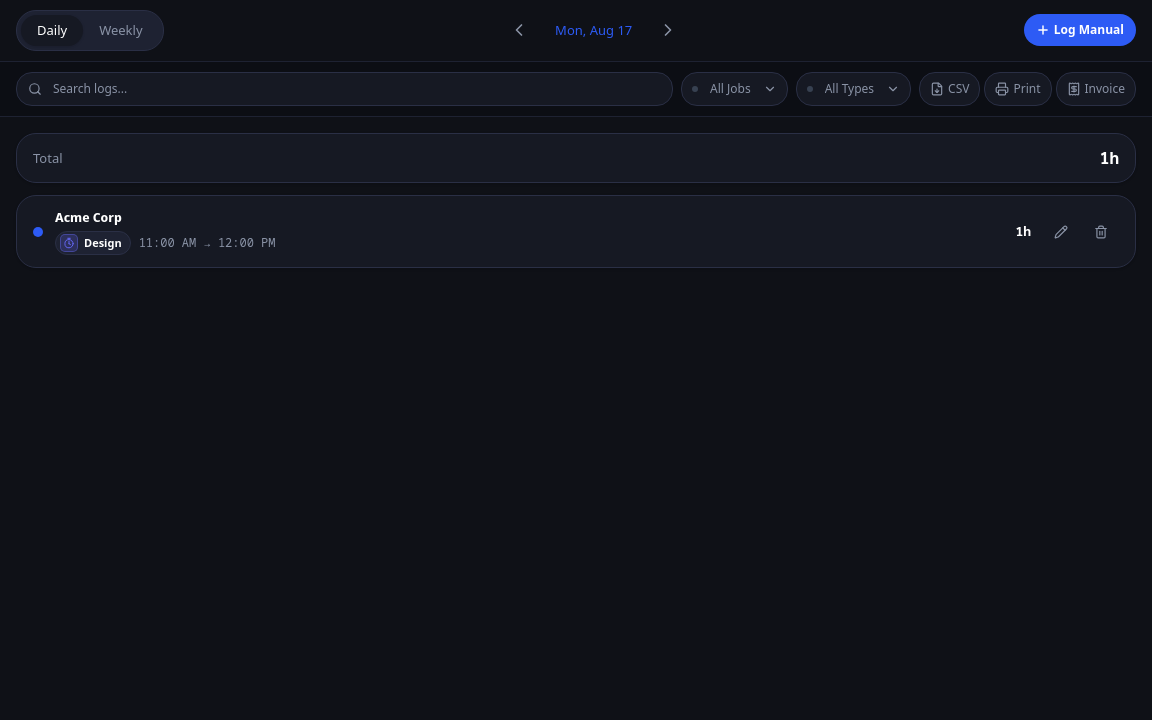
TimesheetsView — delete entry flow › closes the ConfirmModal after deletion is confirmed
The image size is (1152, 720).
Click the button named "delete entry for acme corp". click: (1101, 232)
box: [1083,214,1119,250]
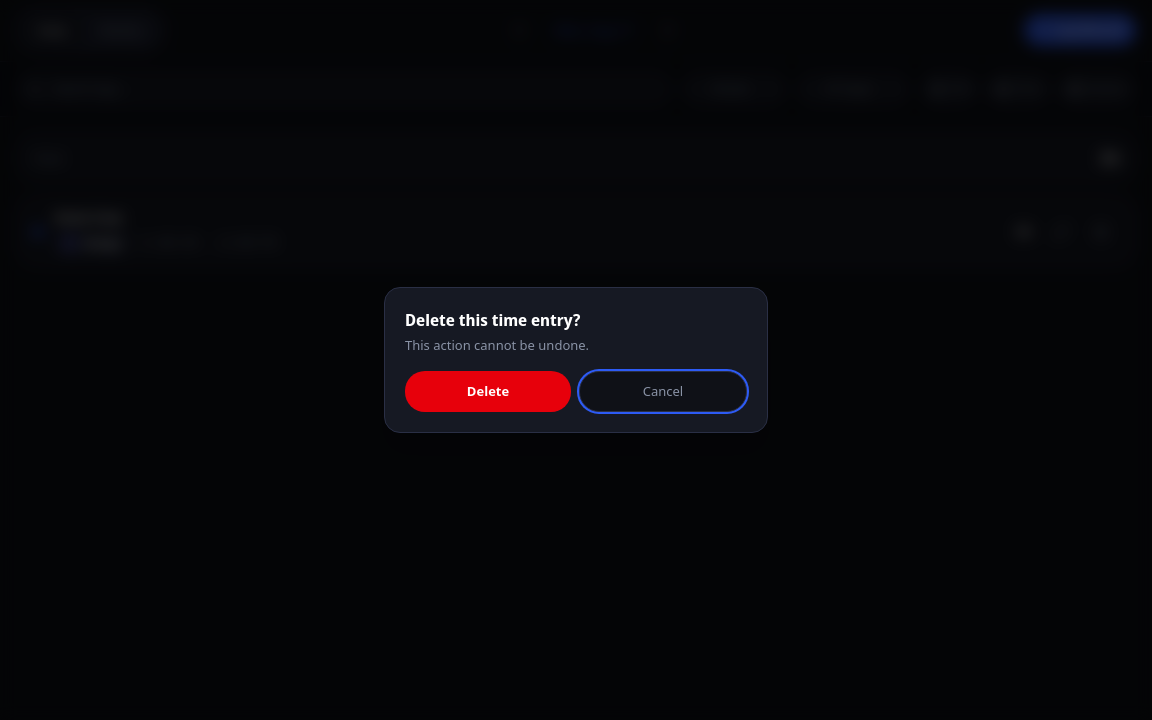
Click the button "Delete". click: (488, 391)
box: [405,371,571,412]
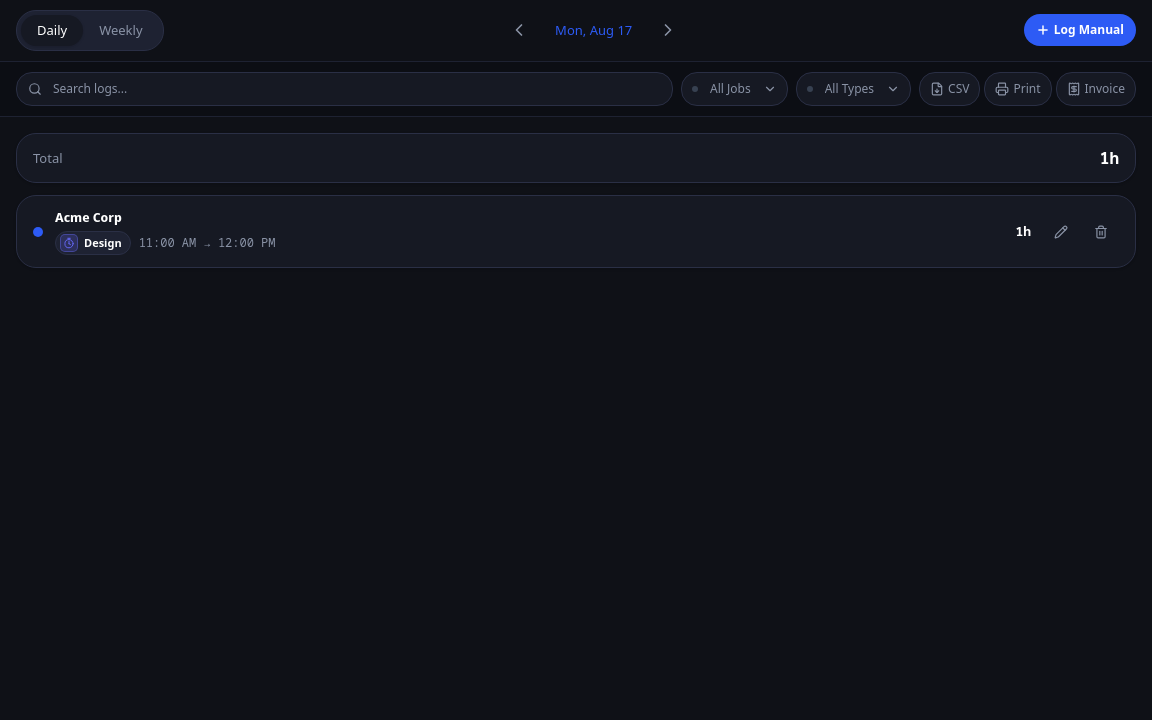
Now the dialog is gone
